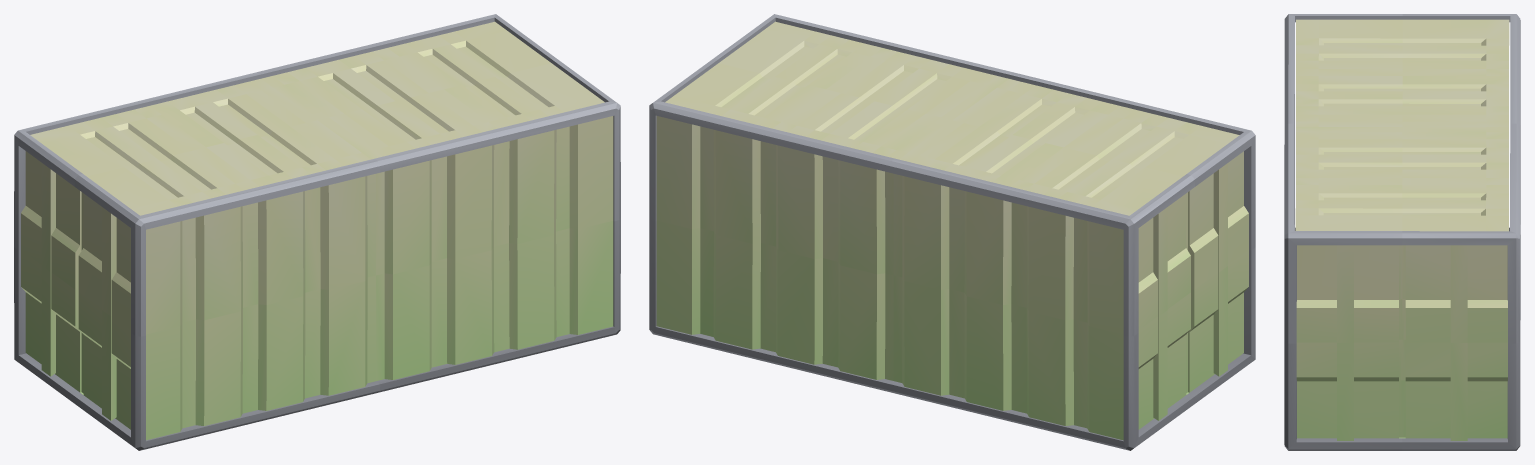
File: Container_Green.glb
The picture shows the model from 3 angles, left to right: view 1: azimuth 30°, elevation 25°; view 2: azimuth 150°, elevation 25°; view 3: azimuth 270°, elevation 25°; orthographic projection. The views are drawn at different scales.
Parts seen in each view (by area): view 1: Container_Green; view 2: Container_Green; view 3: Container_Green.
Boxes of the visible parts, x1,y1,x2,y2 form: Container_Green: [14, 14, 620, 450]; Container_Green: [649, 14, 1255, 450]; Container_Green: [1284, 14, 1520, 450].
Size of the model in its own units: 5.71 by 2.6 by 2.56.
